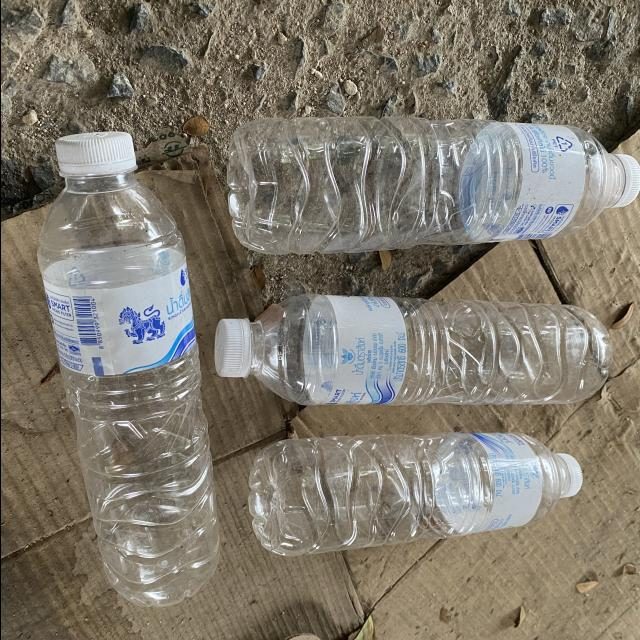plastik: (36, 132, 219, 607), (226, 117, 640, 254), (215, 295, 611, 405), (248, 432, 581, 555)
